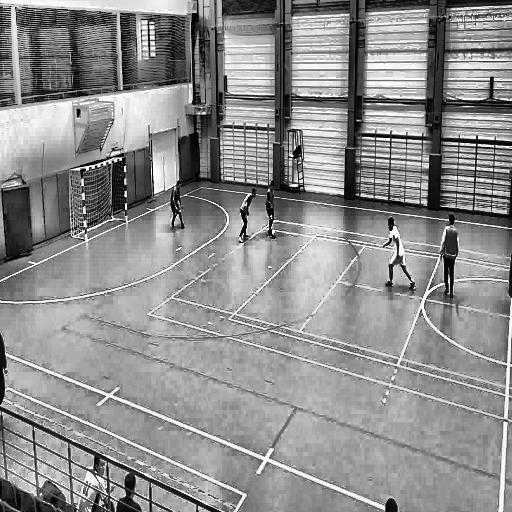ball: (270, 228, 277, 242)
player: (379, 216, 418, 293), (439, 211, 461, 302), (0, 312, 11, 432), (238, 184, 257, 248), (169, 178, 185, 231), (264, 178, 277, 236), (507, 232, 512, 315)
